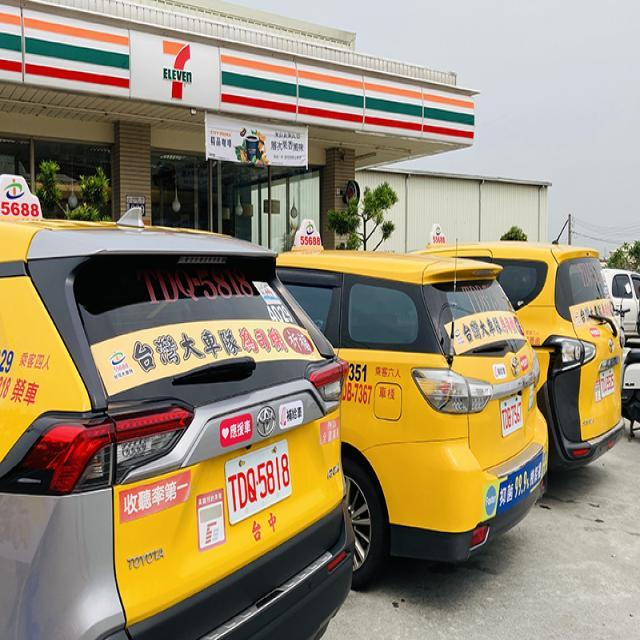Door: (279, 251, 548, 586), (461, 242, 622, 466)
Taxi: (0, 218, 354, 638)
